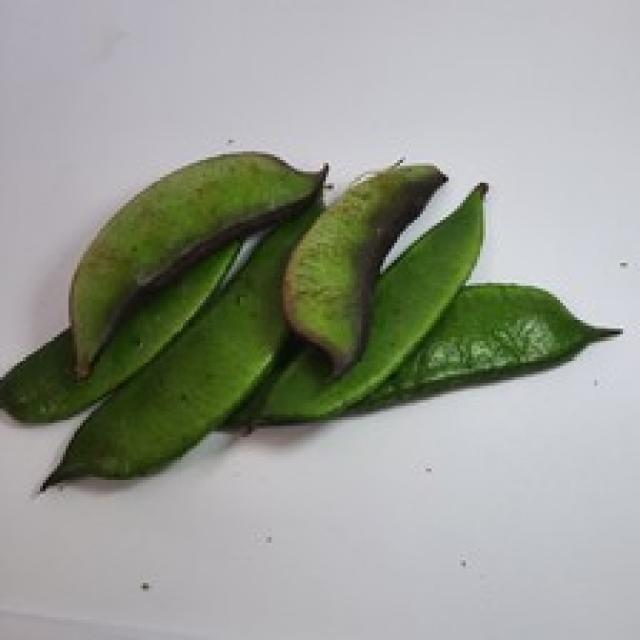Bean: (66, 149, 326, 380), (280, 157, 446, 377)
